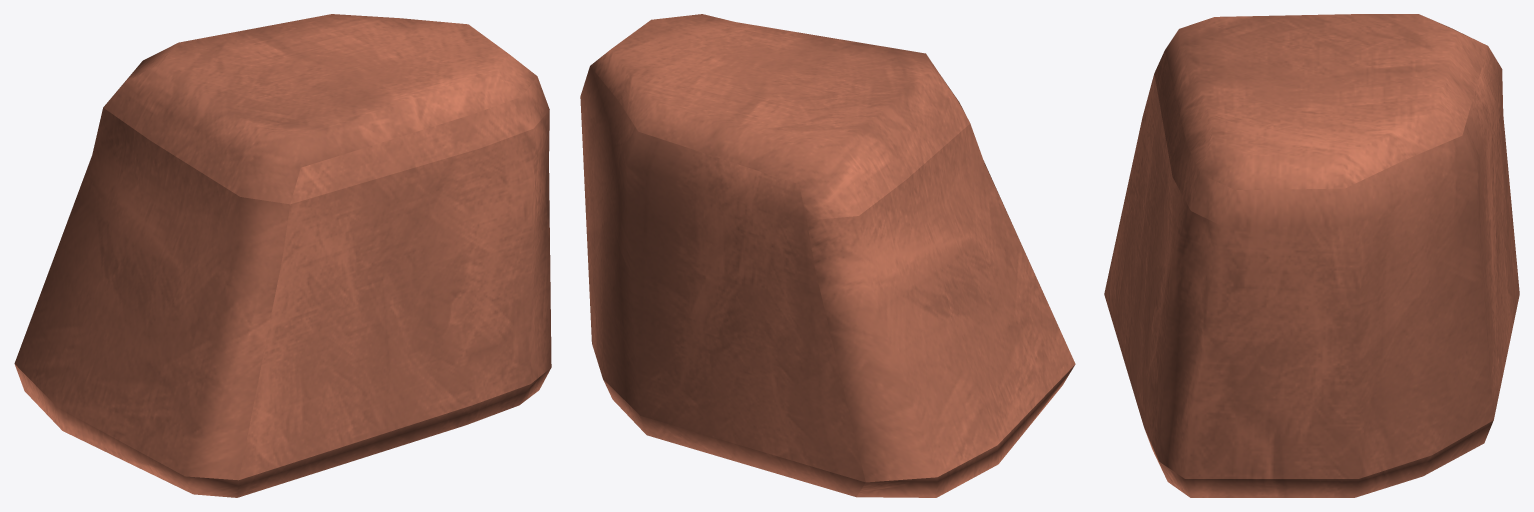
The model's file is Mountain02.glb.
3 renders of one model, left to right at view 1: azimuth 30°, elevation 25°; view 2: azimuth 150°, elevation 25°; view 3: azimuth 270°, elevation 25°, orthographic. The views are drawn at different scales.
Visible parts, largest first — view 1: Mountain02; view 2: Mountain02; view 3: Mountain02.
Part boxes in pixels (x1,y1,x2,y2): Mountain02: (14,14,551,497); Mountain02: (580,14,1075,497); Mountain02: (1104,14,1519,497).
Bounding box in the file's own units: 2.8 × 1.98 × 2.19.
1 material, 1 textured.
